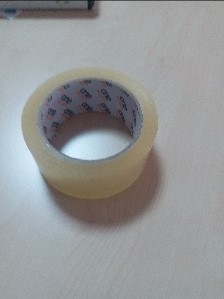band: (16, 64, 167, 201)
